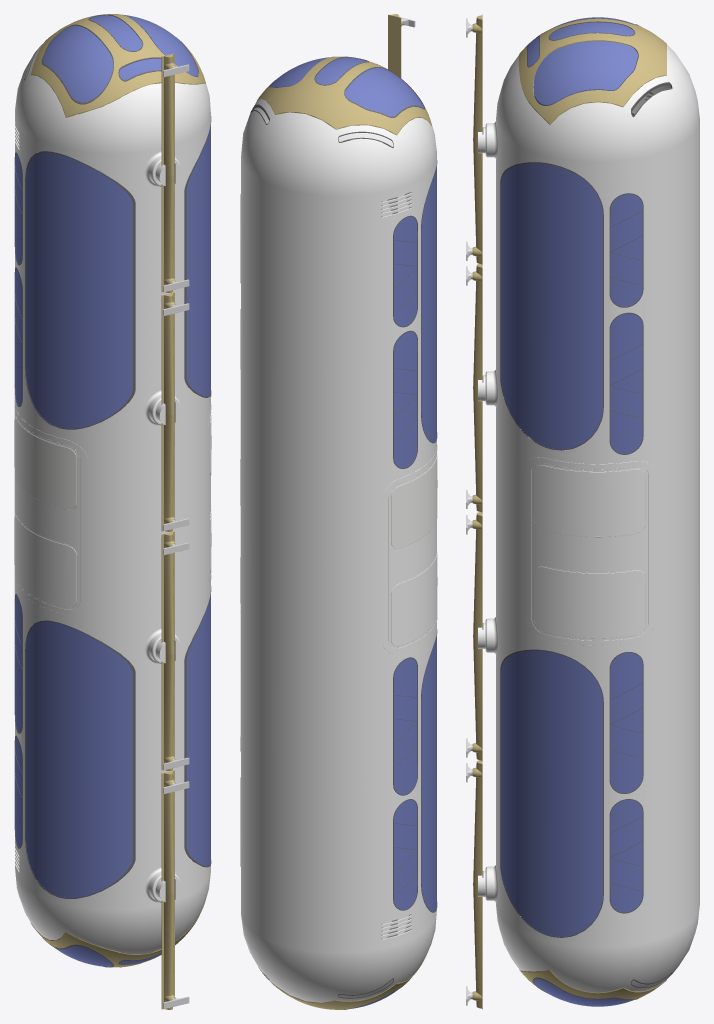
Rendered from TransitCar.glb.
3 views of the same model, side by side, from view 1: azimuth 30°, elevation 25°; view 2: azimuth 150°, elevation 25°; view 3: azimuth 270°, elevation 25° (orthographic). The views are drawn at different scales.
Visible parts, largest first — view 1: Body240; view 2: Body240; view 3: Body240.
Part boxes in pixels (x1,y1,x2,y2): Body240: [14, 14, 211, 1009]; Body240: [240, 14, 437, 1009]; Body240: [466, 14, 699, 1009].
Size of the model in its own units: 3.06 by 16.31 by 3.5.
